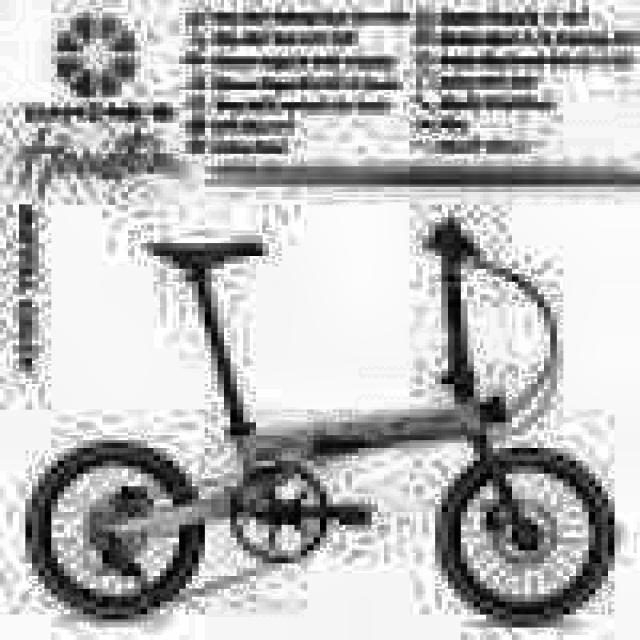bike: (20, 212, 624, 624)
